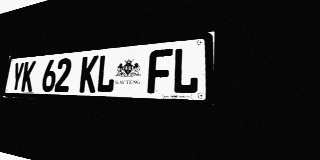2: (54, 58, 72, 92)
6: (41, 59, 58, 92)
F: (147, 48, 173, 94)
K: (79, 55, 99, 93), (21, 61, 36, 92)
L: (172, 46, 200, 94), (96, 54, 117, 93)
Y: (10, 62, 25, 91)
